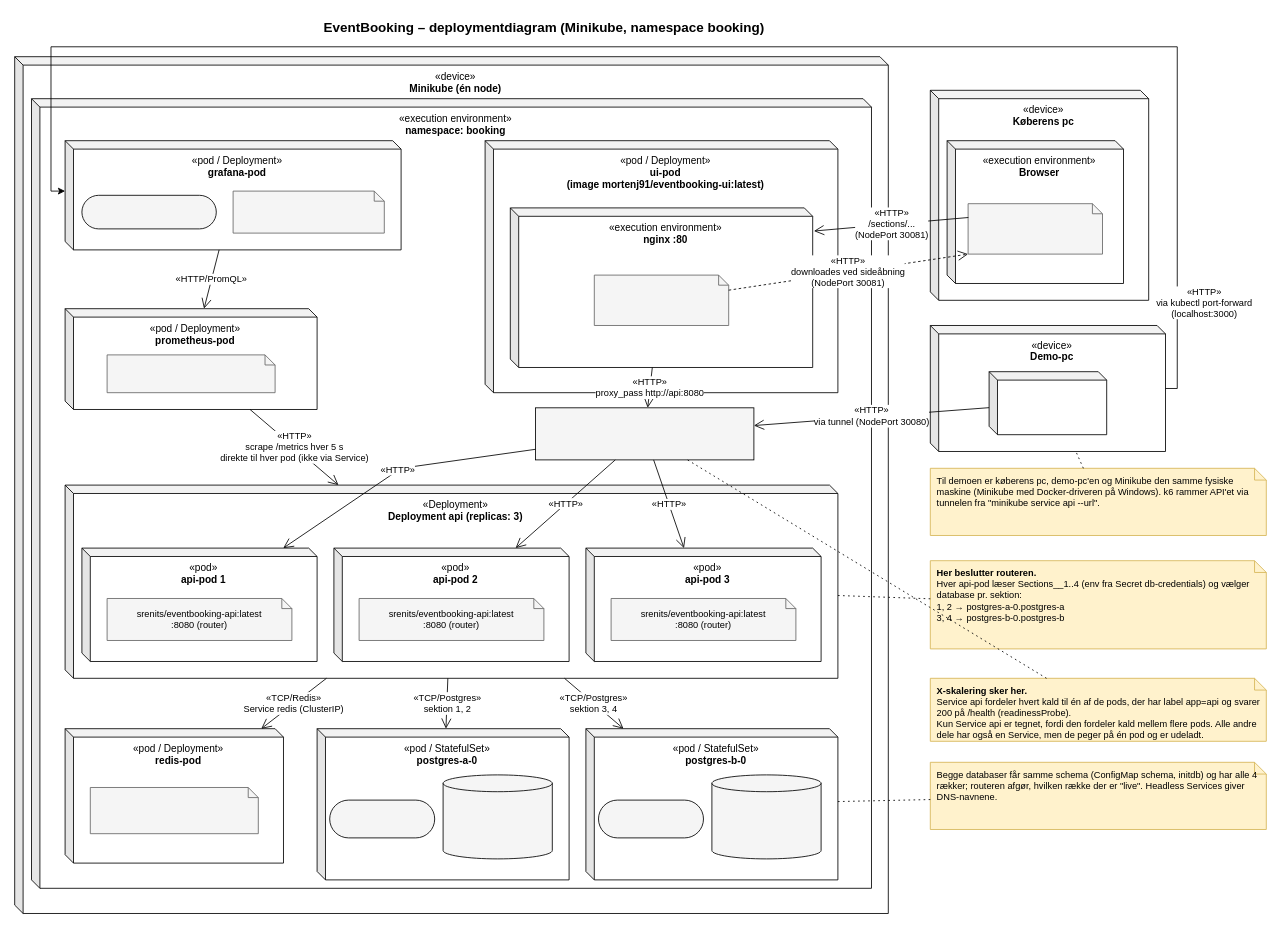
Some shapes in this 1281 by 928 pixel diagram are drawn without their labels. Here are the shapes that lost their labels. From the top down, the centre of each, then its label:
At point 148,211: "PVC grafana-data 1Gi".
At point 308,211: "grafana/grafana:11.5.2 :3000".
At point 1034,228: "Blazor WASM UI (Book.razor)".
At point 661,300: "Blazor-filer (html, js, wasm)".
At point 190,373: "prom/prometheus:v3 :9090".
At point 1047,403: "«load generator» k6".
At point 644,433: "«Service: load balancer» Service api NodePort 30080 → :8080".
At point 173,810: "redis:7 :6379 availability:{id}, TTL 2 s".
At point 382,818: "PVC data-postgres-a-0 1Gi".
At point 497,816: "postgres:16 :5432 booking.section (sektion 1-2 live)".
At point 651,818: "PVC data-postgres-b-0 1Gi".
At point 766,816: "postgres:16 :5432 booking.section (sektion 3-4 live)".
